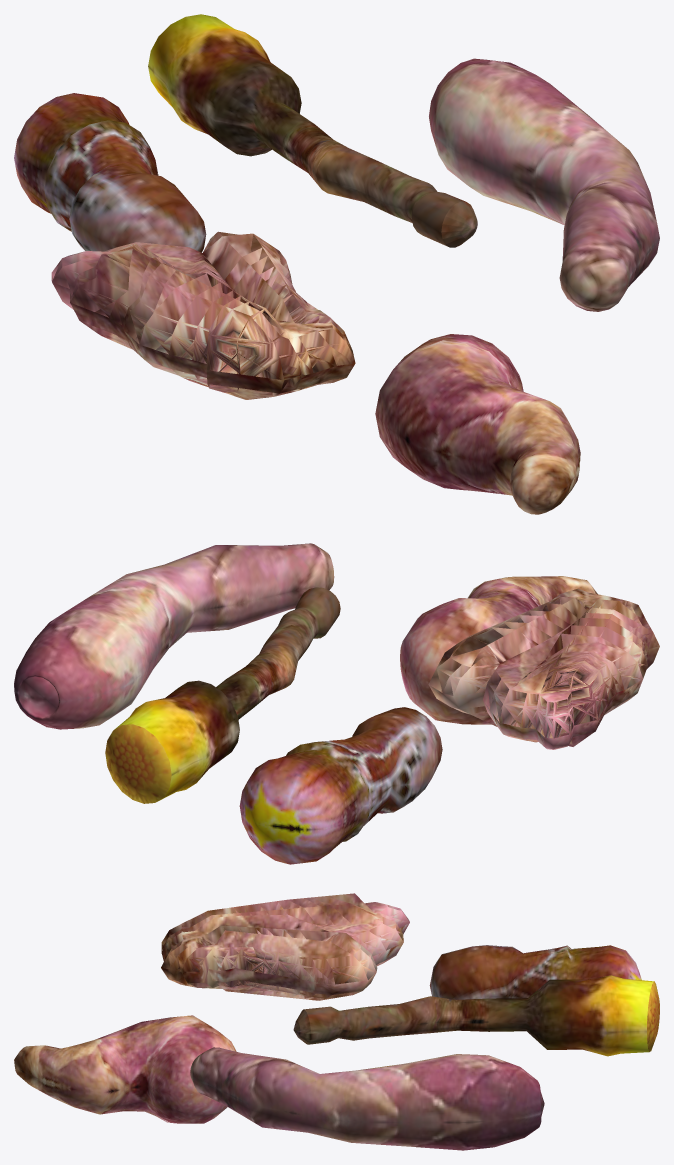
The model's file is kuandonghua.FBX.
The picture shows the model from 3 angles, top to bottom: view 1: azimuth 30°, elevation 25°; view 2: azimuth 150°, elevation 25°; view 3: azimuth 270°, elevation 25°; orthographic projection. The views are drawn at different scales.
Visible parts, largest first — view 1: Line001, Cylinder001, Cylinder004, Cylinder002, Cylinder003; view 2: Cylinder001, Line001, Cylinder003, Cylinder002, Cylinder004; view 3: Cylinder001, Line001, Cylinder002, Cylinder004, Cylinder003.
Part boxes in pixels (left/top/right/bottom): Line001: left=51, top=231, right=355, bottom=399; Cylinder001: left=429, top=58, right=659, bottom=311; Cylinder004: left=375, top=334, right=580, bottom=514; Cylinder002: left=148, top=14, right=477, bottom=247; Cylinder003: left=14, top=93, right=206, bottom=252; Cylinder001: left=14, top=543, right=334, bottom=729; Line001: left=428, top=588, right=659, bottom=749; Cylinder003: left=239, top=707, right=442, bottom=864; Cylinder002: left=105, top=587, right=340, bottom=803; Cylinder004: left=400, top=576, right=597, bottom=724; Cylinder001: left=190, top=1047, right=544, bottom=1150; Line001: left=161, top=893, right=409, bottom=1000; Cylinder002: left=293, top=975, right=659, bottom=1056; Cylinder004: left=14, top=1015, right=236, bottom=1123; Cylinder003: left=429, top=945, right=641, bottom=999.
Bounding box in the file's own units: 54.62 × 20.18 × 73.45.
1 material, 1 textured.
